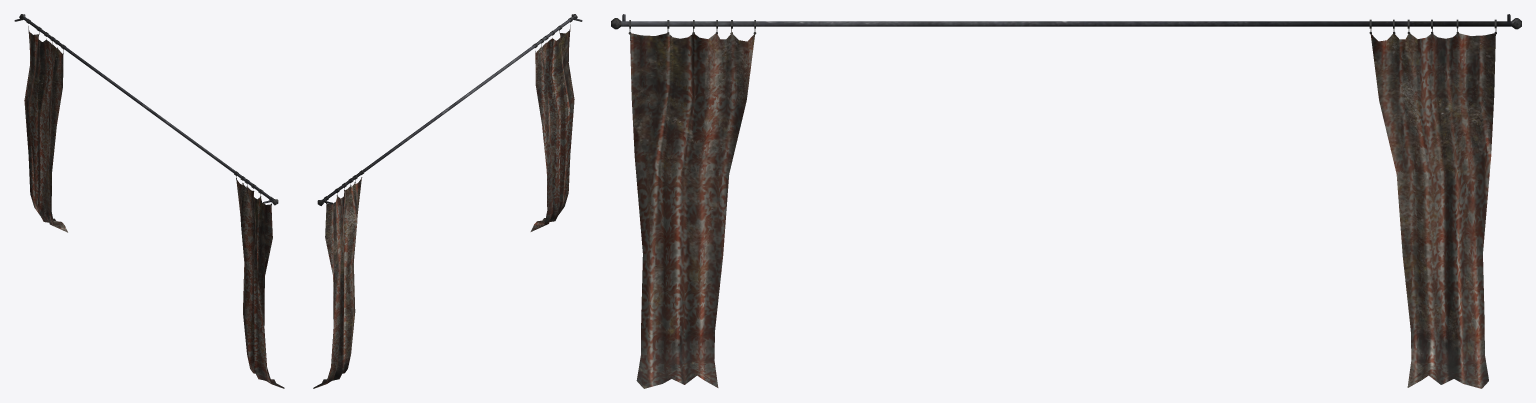
The model's file is Double_Long_ExpCurtainSet_T01.FBX.
3 views of the same model, side by side, from view 1: azimuth 30°, elevation 25°; view 2: azimuth 150°, elevation 25°; view 3: azimuth 270°, elevation 25° (orthographic). The views are drawn at different scales.
Parts seen in each view (by area): view 1: Double_Long_ExpCurtainSet_T01; view 2: Double_Long_ExpCurtainSet_T01; view 3: Double_Long_ExpCurtainSet_T01.
Part boxes in pixels (left/top/right/bottom): Double_Long_ExpCurtainSet_T01: left=14, top=14, right=284, bottom=388; Double_Long_ExpCurtainSet_T01: left=313, top=14, right=582, bottom=388; Double_Long_ExpCurtainSet_T01: left=611, top=14, right=1521, bottom=388.
Bounding box in the file's own units: 36.41 × 261 × 605.
